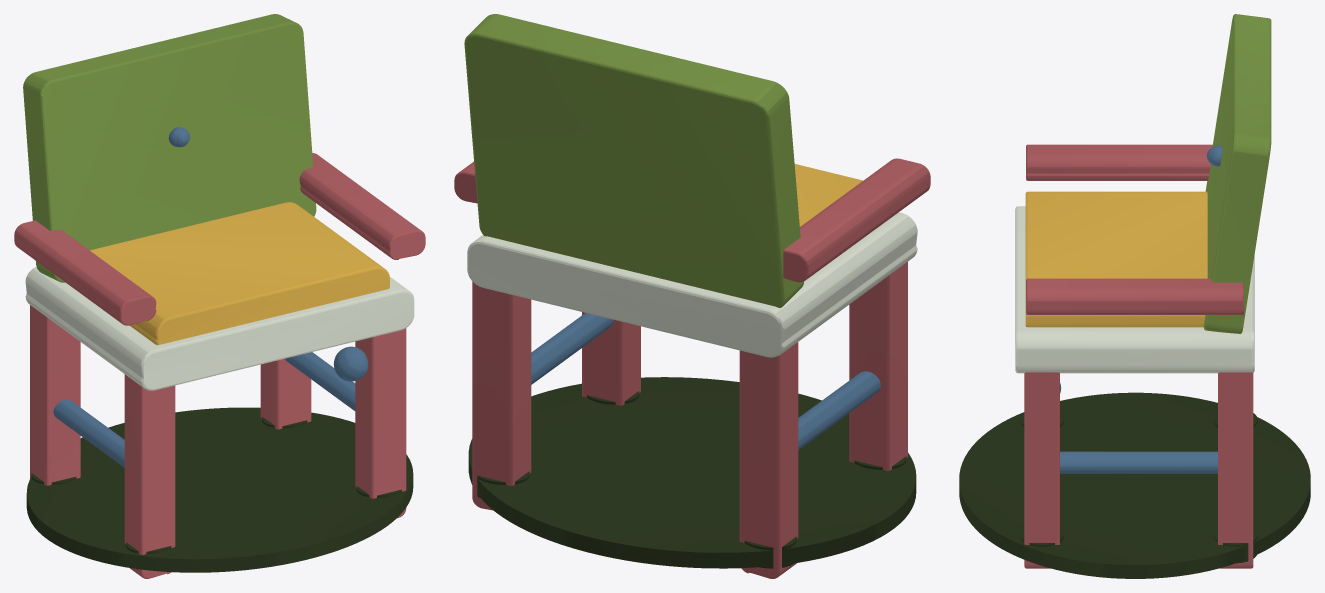
File: 0953_农业科技图鉴_草莓组培苗.glb
3 renders of one model, left to right at view 1: azimuth 30°, elevation 25°; view 2: azimuth 150°, elevation 25°; view 3: azimuth 270°, elevation 25°, orthographic. The views are drawn at different scales.
Visible parts, largest first — view 1: card_0953; view 2: card_0953; view 3: card_0953.
Part boxes in pixels (bbox=[...]): card_0953: bbox=[14, 14, 425, 578]; card_0953: bbox=[454, 14, 930, 578]; card_0953: bbox=[959, 14, 1310, 578].
Size of the model in its own units: 0.8576 by 1 by 0.7391.
